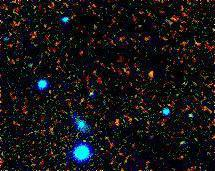star: (136, 57, 166, 87)
